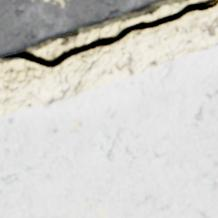brick: (0, 0, 162, 56)
broken_brick: (0, 44, 217, 217)
crack: (0, 0, 216, 67), (41, 105, 46, 108)
